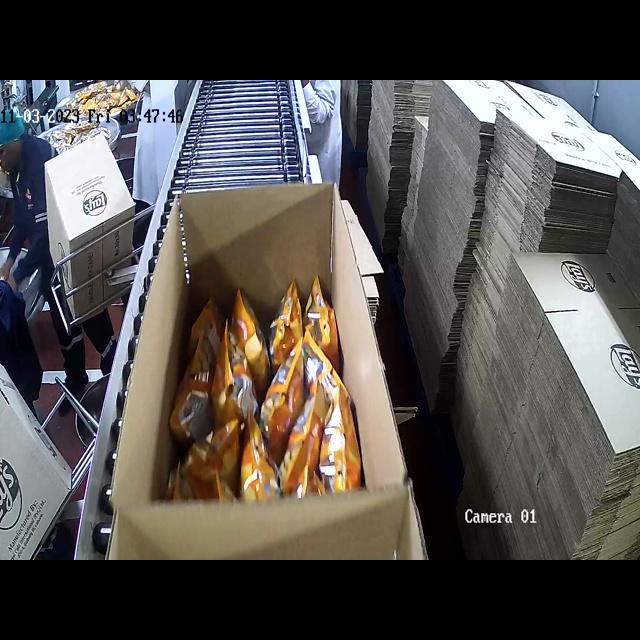cheese: (172, 269, 349, 502)
